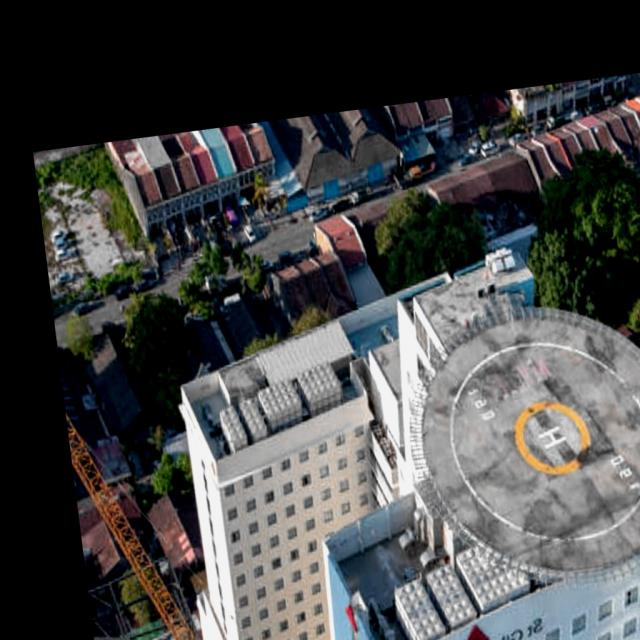helipad: (509, 396, 592, 476)
